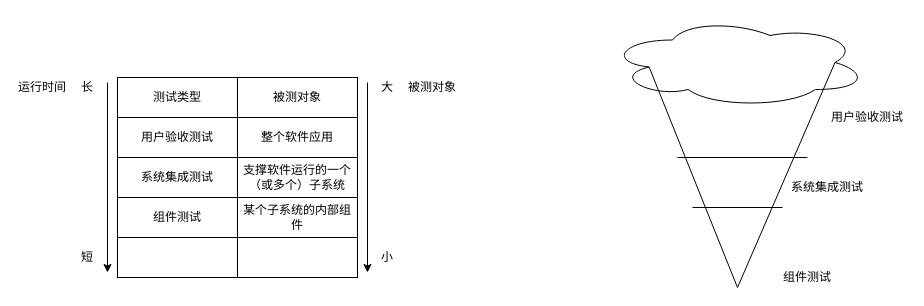
Image size: 924x306. Some labels were removed from this diagram. Here are the shapes that lost their labels. From the top down, the box of each, then its label:
(606, 16, 868, 108): 手工测试
(116, 236, 238, 278): 单元测试
(236, 236, 358, 278): 耽搁组件的内部单元
